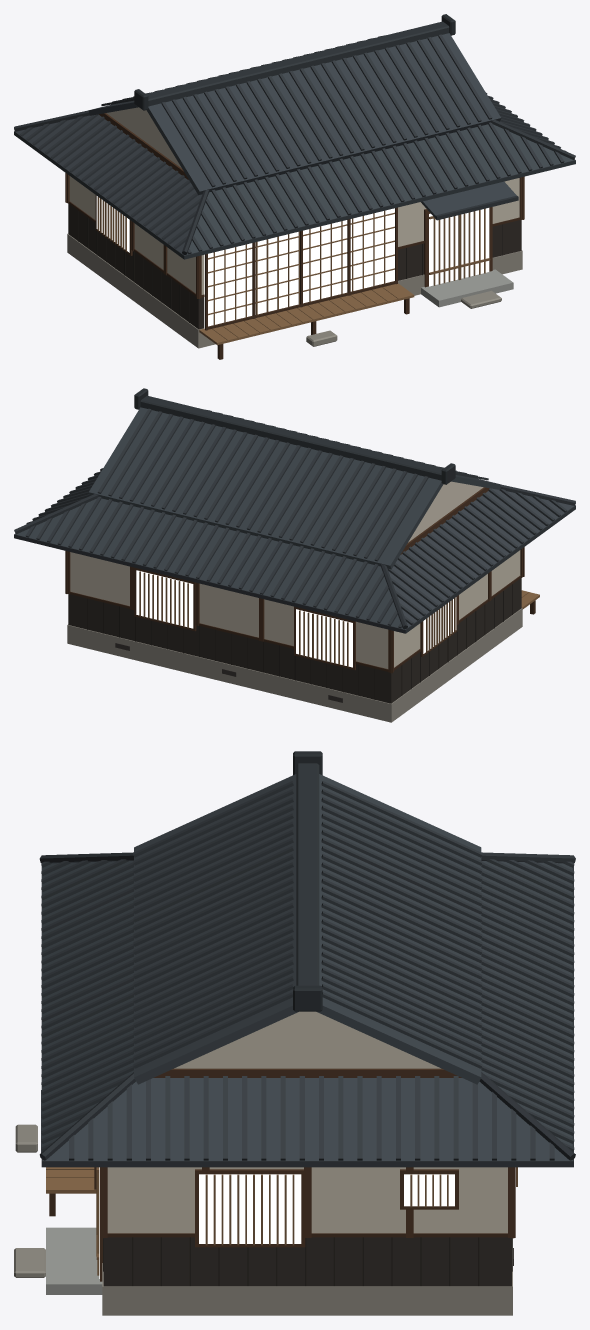
The model's file is building_house_traditional_01.glb.
3 renders of one model, top to bottom at view 1: azimuth 30°, elevation 25°; view 2: azimuth 150°, elevation 25°; view 3: azimuth 270°, elevation 25°, orthographic. The views are drawn at different scales.
Parts seen in each view (by area): view 1: building_house_traditional_01; view 2: building_house_traditional_01; view 3: building_house_traditional_01.
Boxes of the visible parts, <box> form: building_house_traditional_01: <box>14,14,575,359</box>; building_house_traditional_01: <box>14,388,575,722</box>; building_house_traditional_01: <box>14,751,575,1315</box>.
Bounding box in the file's own units: 11.1 × 5.55 × 8.77.
